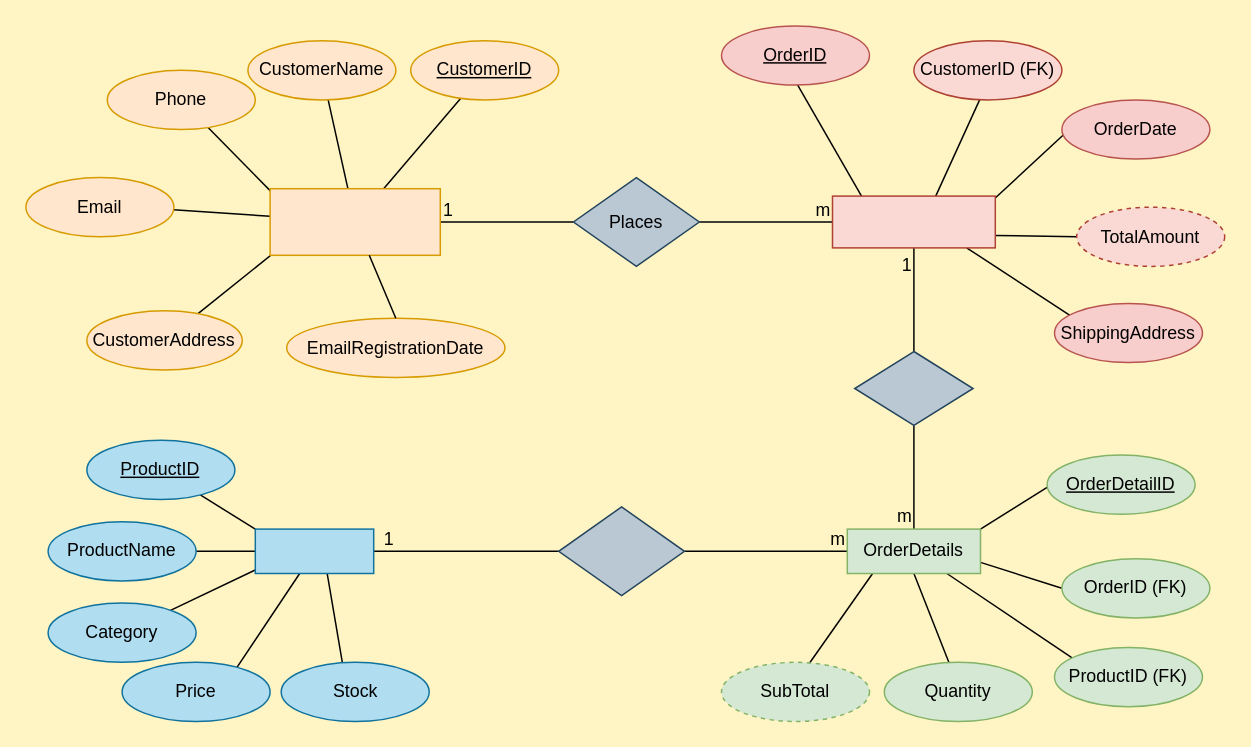
Some shapes in this 1251 by 747 pixel diagram are drawn without their labels. The centre of each missing label's shape, as x and y in pixels:
"Contains" goes at (913,388).
"Customers" goes at (354,221).
"Exists" goes at (620,550).
"Orders" goes at (913,221).
"Products" goes at (314,551).
